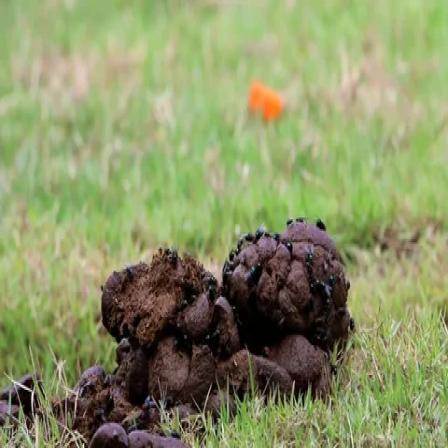dog-poop: (92, 214, 359, 422)
